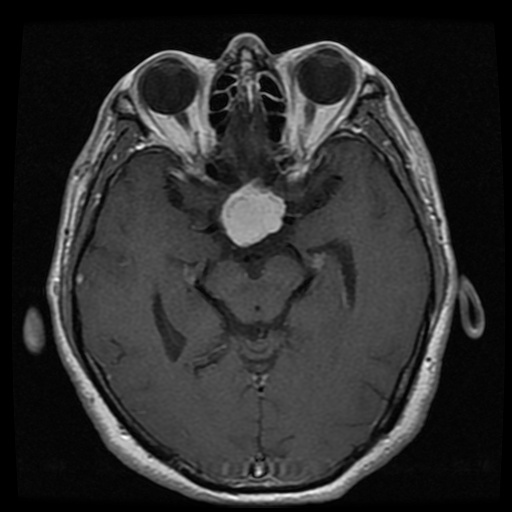meningioma: (221, 179, 288, 247)
